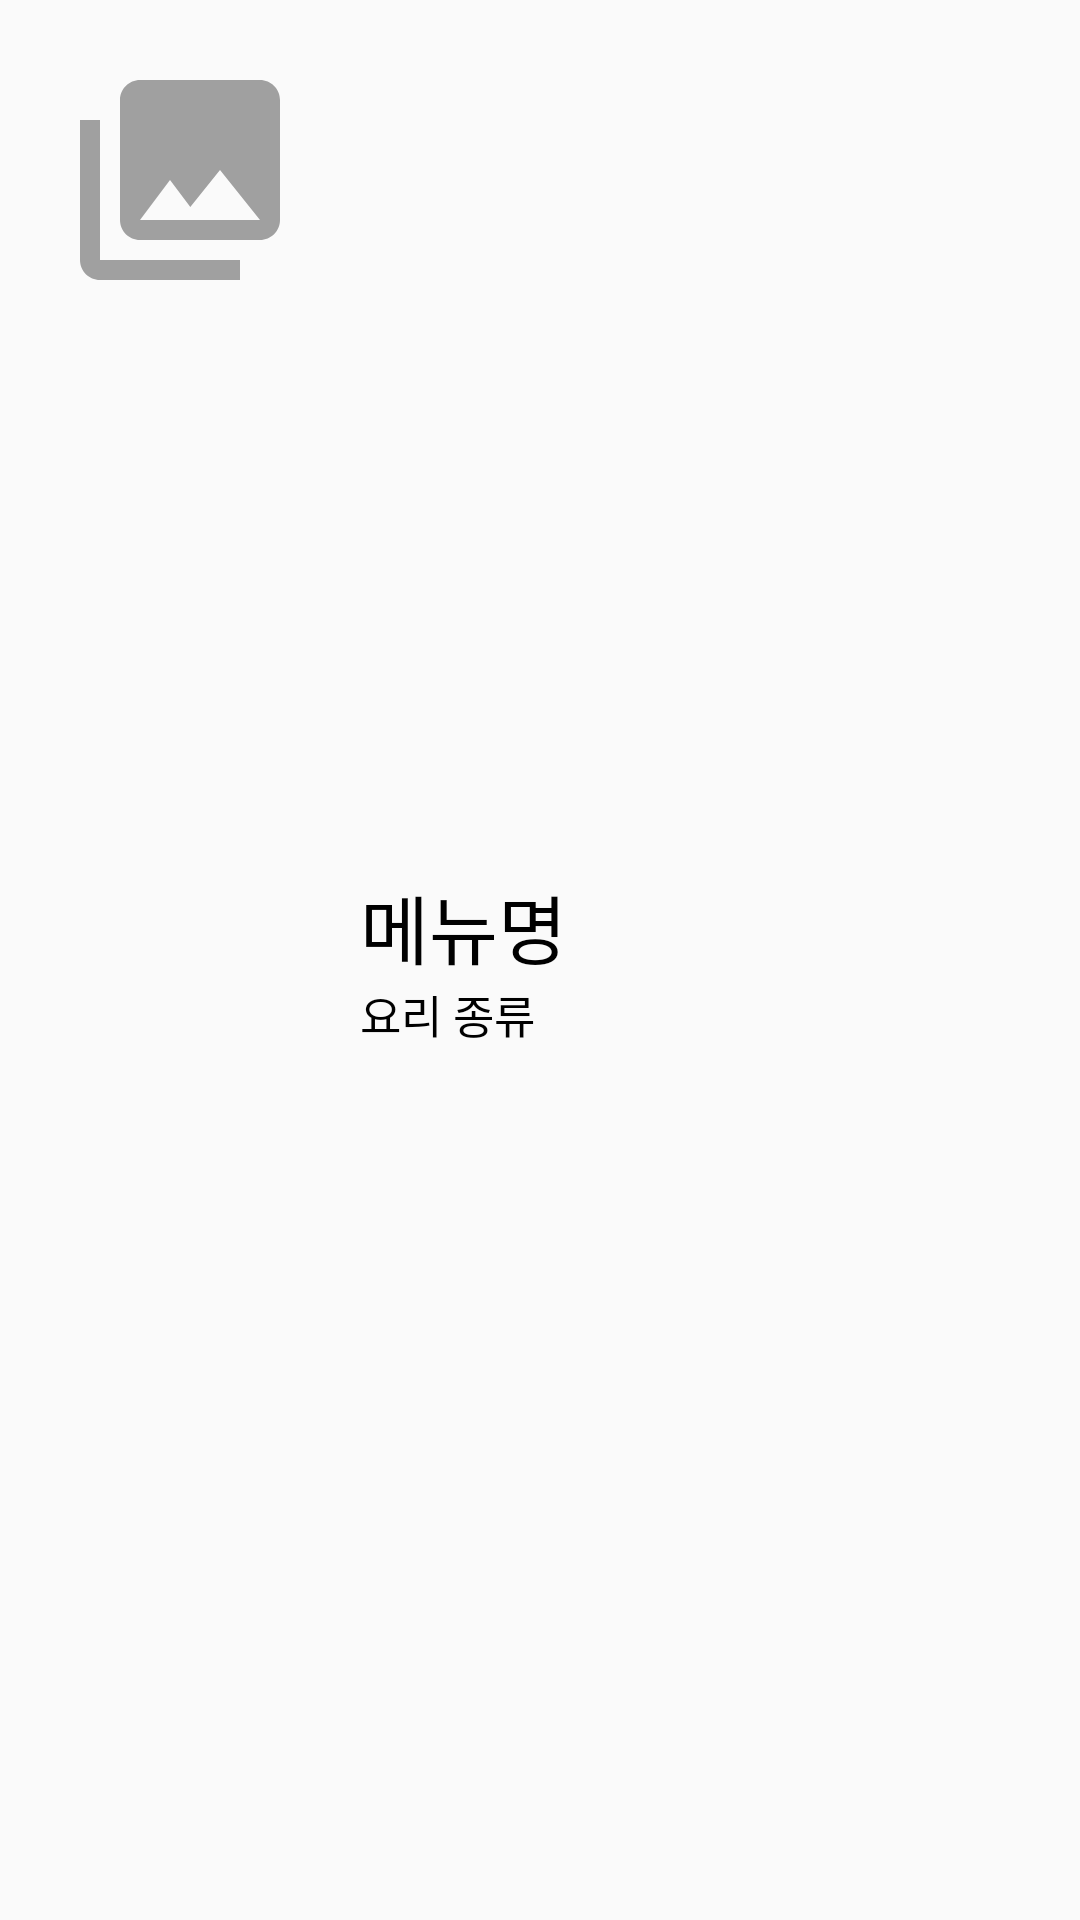

Icon bounding boxes for this 1080w x 1920h phone screenshot, format (x1, y1, x2, y2):
collections: (80, 80, 280, 280)
